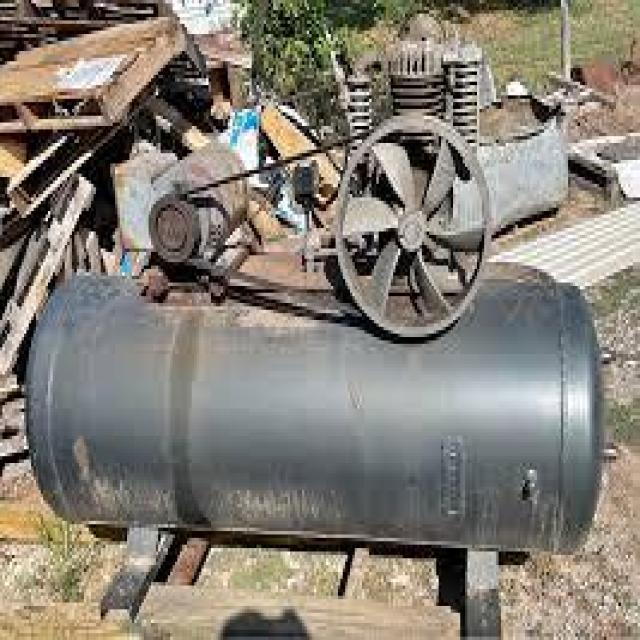compressor: (22, 29, 620, 562)
